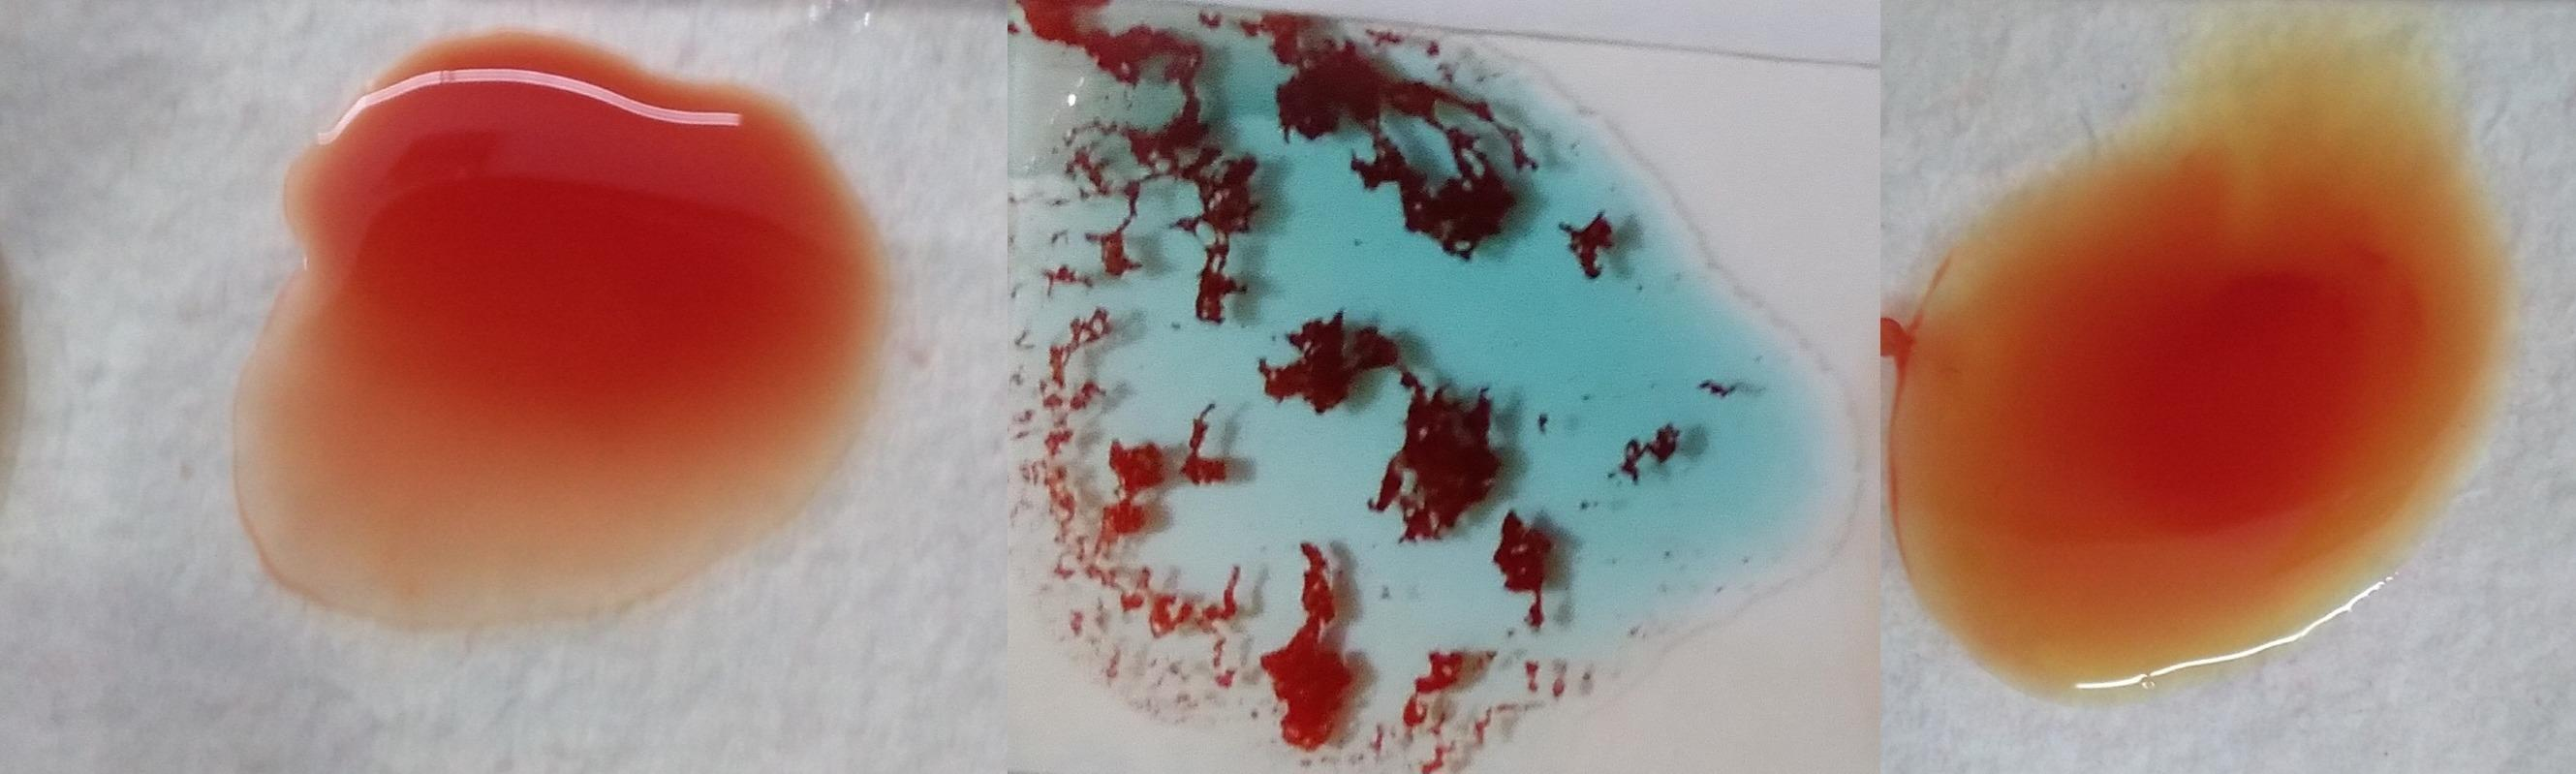A: (1025, 0, 1750, 766)
